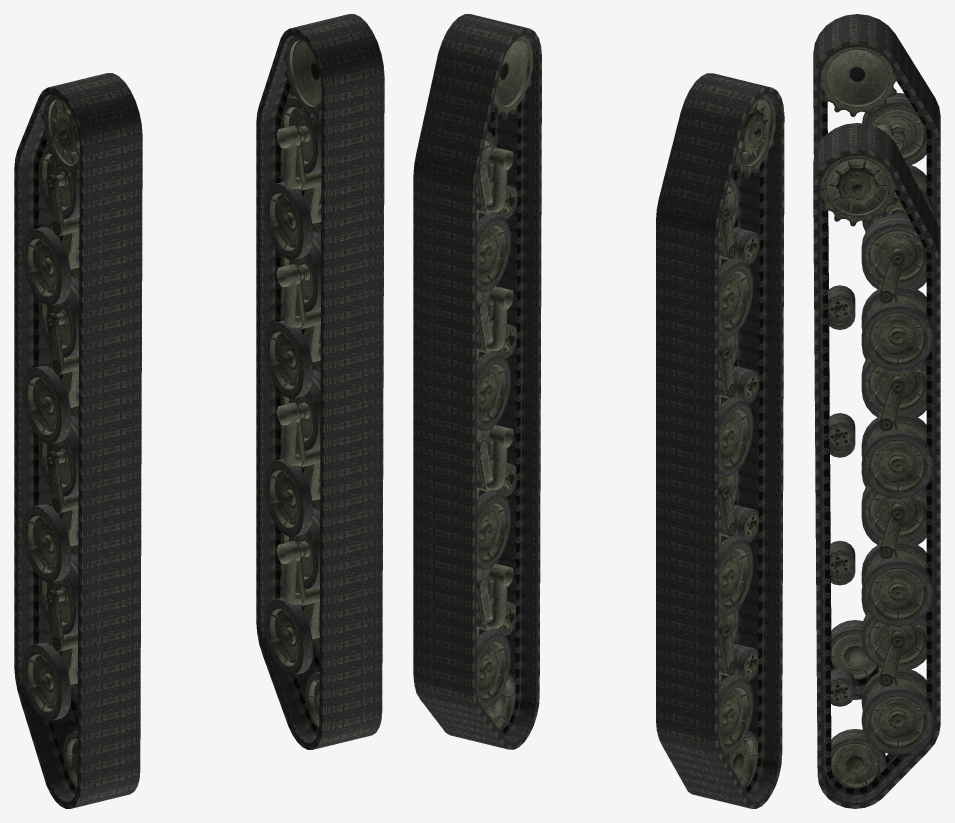
The model's file is Chassis.glb.
The picture shows the model from 3 angles, left to right: view 1: azimuth 30°, elevation 25°; view 2: azimuth 150°, elevation 25°; view 3: azimuth 270°, elevation 25°; orthographic projection. The views are drawn at different scales.
Parts seen in each view (by area): view 1: set_0_group_0, set_1_group_0, set_3_group_0, set_2_group_0; view 2: set_0_group_0, set_1_group_0, set_3_group_0, set_2_group_0; view 3: set_3_group_0, set_1_group_0, set_2_group_0, set_0_group_0.
Part boxes in pixels (x1,y1,x2,y2): set_0_group_0: [14, 73, 142, 808]; set_1_group_0: [256, 14, 384, 749]; set_3_group_0: [264, 35, 321, 728]; set_2_group_0: [22, 94, 79, 787]; set_0_group_0: [656, 73, 784, 808]; set_1_group_0: [413, 14, 541, 749]; set_3_group_0: [476, 35, 533, 730]; set_2_group_0: [719, 94, 775, 788]; set_3_group_0: [820, 156, 933, 788]; set_1_group_0: [813, 123, 940, 808]; set_2_group_0: [820, 47, 933, 679]; set_0_group_0: [813, 14, 940, 699].
Bounding box in the file's own units: 3.05 × 6.92 × 1.21.
Materials: 4 (4 with a texture image).
